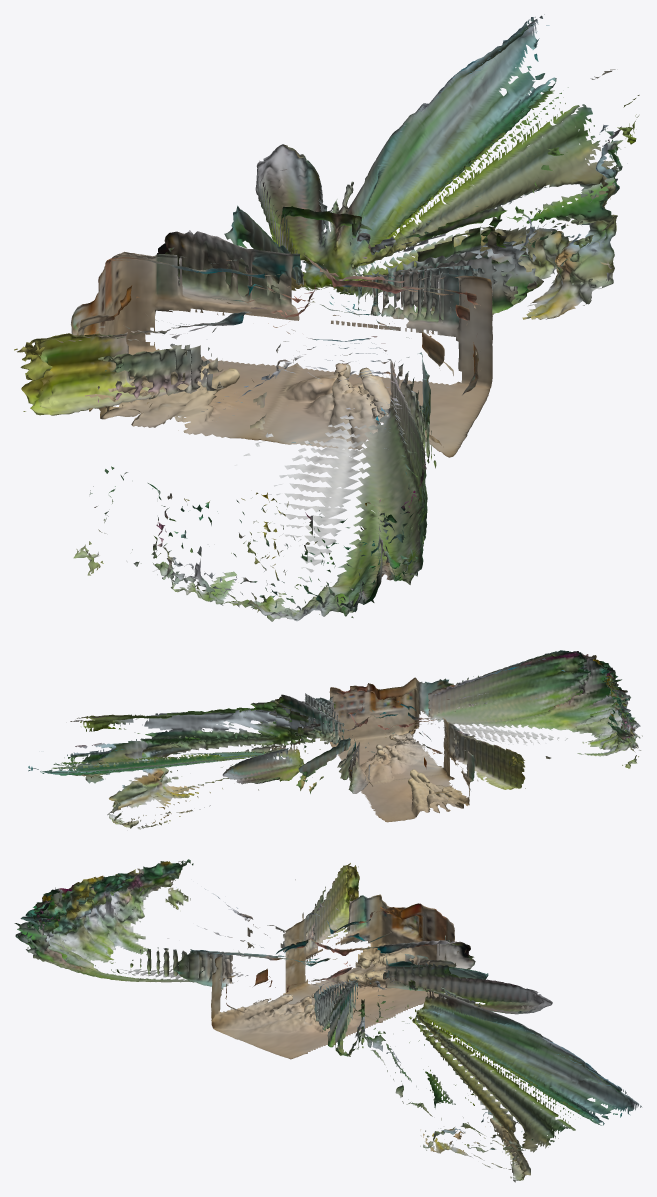
File: Vibrant Miami living room_collider.glb
3 renders of one model, top to bottom at view 1: azimuth 30°, elevation 25°; view 2: azimuth 150°, elevation 25°; view 3: azimuth 270°, elevation 25°, orthographic. The views are drawn at different scales.
Parts seen in each view (by area): view 1: world; view 2: world; view 3: world.
Boxes of the visible parts, bbox=[...] form: world: bbox=[14, 14, 639, 621]; world: bbox=[28, 650, 642, 829]; world: bbox=[14, 859, 642, 1182].
Bounding box in the file's own units: 20.82 × 4.87 × 21.45.
